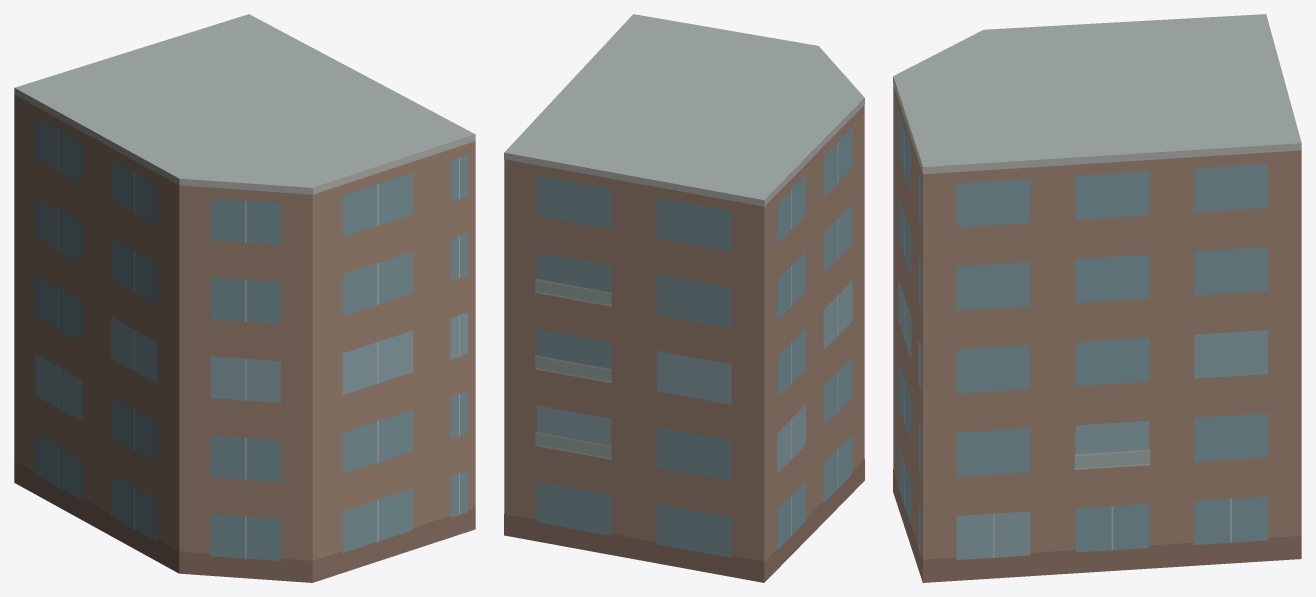
The model's file is survey-upis-32912790.glb.
3 renders of one model, left to right at view 1: azimuth 30°, elevation 25°; view 2: azimuth 150°, elevation 25°; view 3: azimuth 270°, elevation 25°, orthographic. The views are drawn at different scales.
Visible parts, largest first — view 1: survey-upis-32912790.tmp; view 2: survey-upis-32912790.tmp; view 3: survey-upis-32912790.tmp.
Boxes of the visible parts, x1,y1,x2,y2 form: survey-upis-32912790.tmp: (14,14,475,582); survey-upis-32912790.tmp: (504,14,864,582); survey-upis-32912790.tmp: (893,14,1301,582).
Size of the model in its own units: 11.23 by 14.2 by 12.66.
